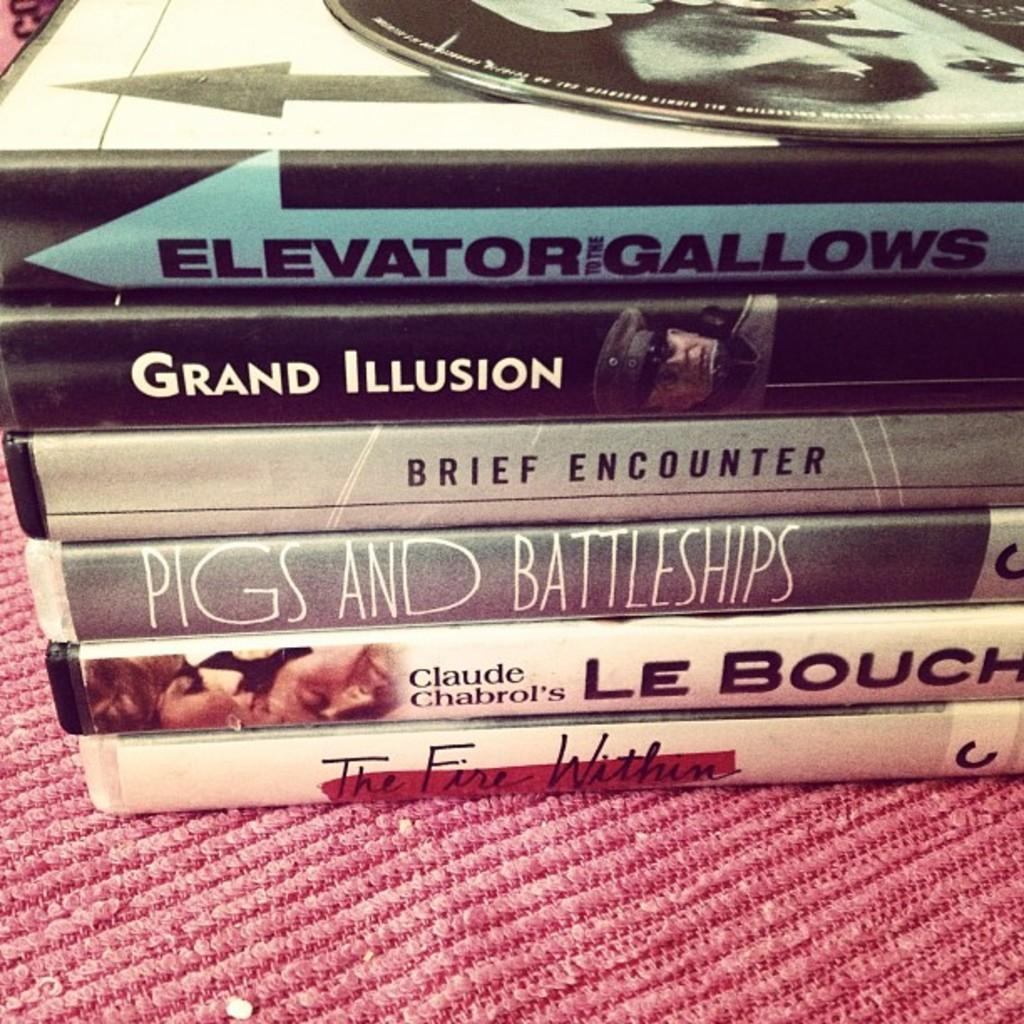Book: (0, 0, 1022, 316), (0, 298, 1022, 448), (18, 494, 1022, 639), (0, 407, 1022, 540), (45, 594, 1022, 733), (74, 694, 1021, 820)
